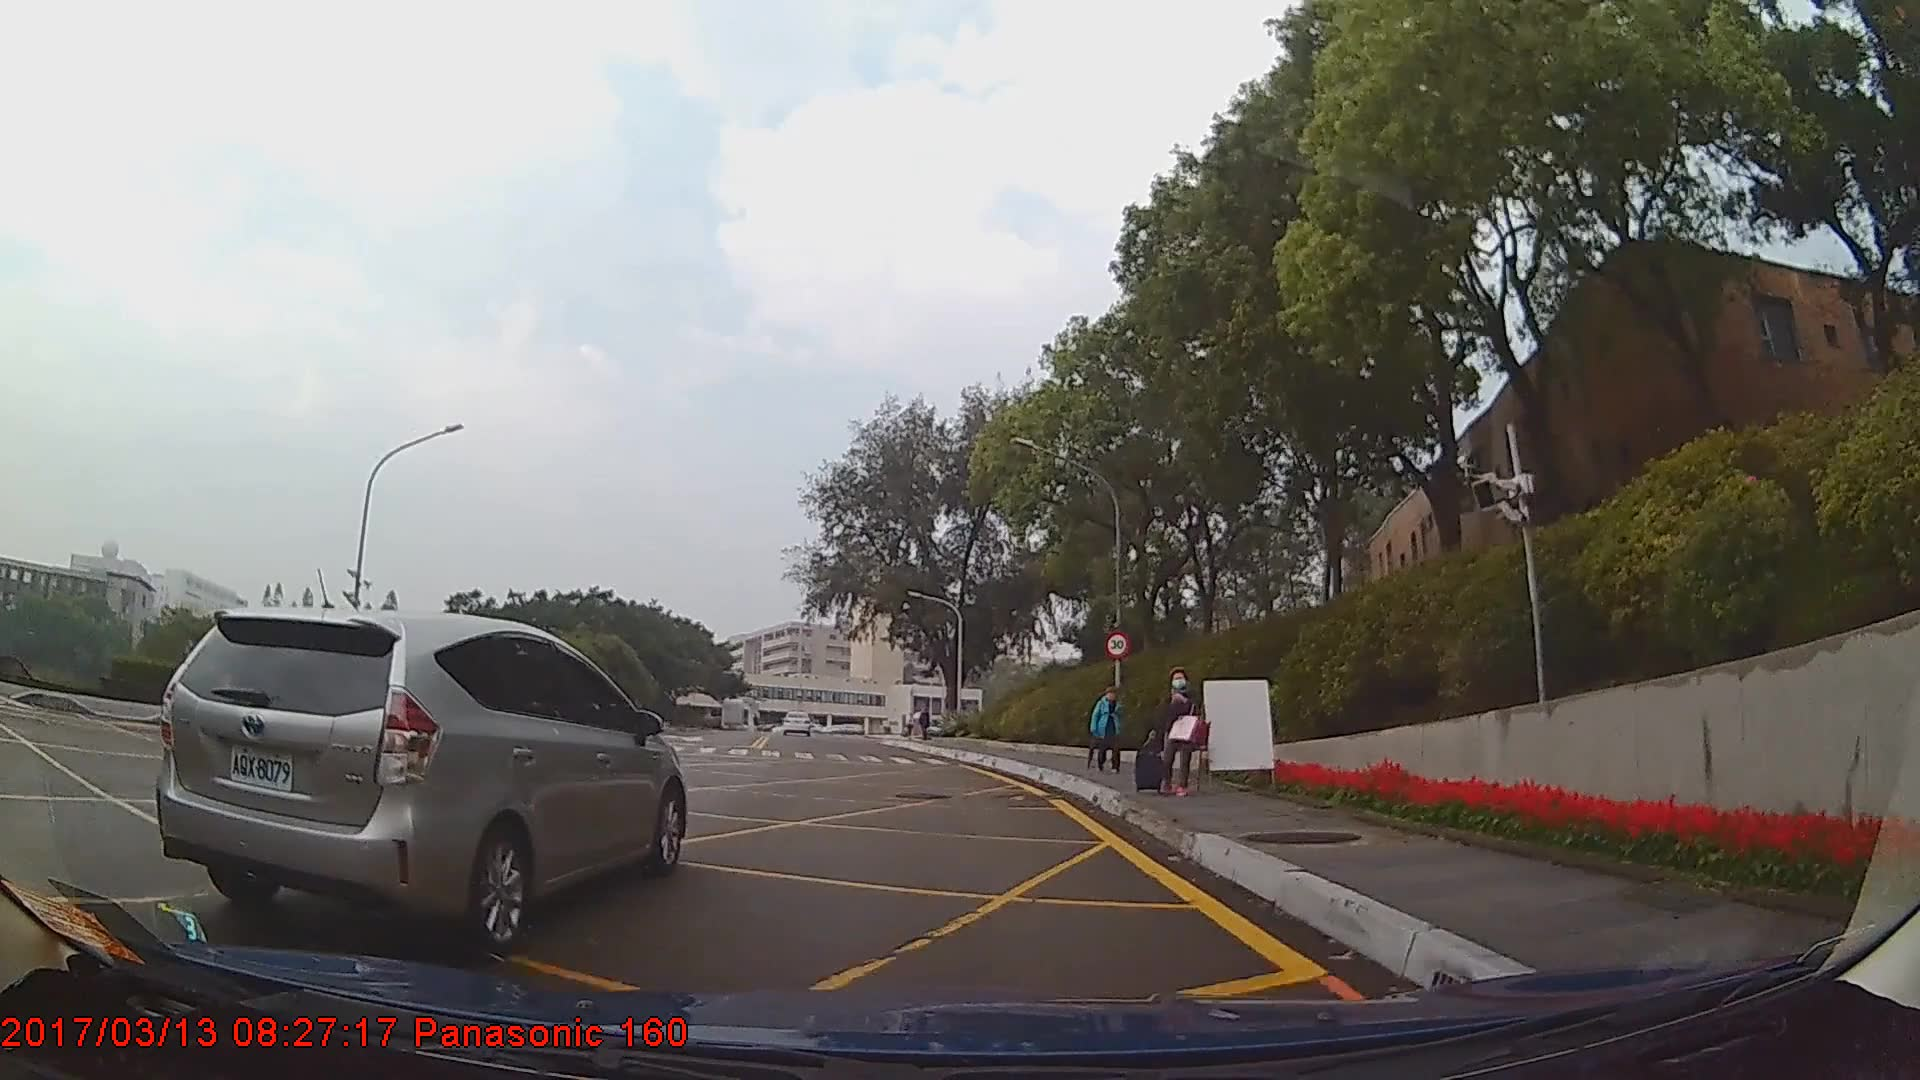pedestrian: (1138, 669, 1209, 804), (1089, 684, 1125, 775)
vehicle: (150, 605, 686, 955), (780, 706, 813, 736)
